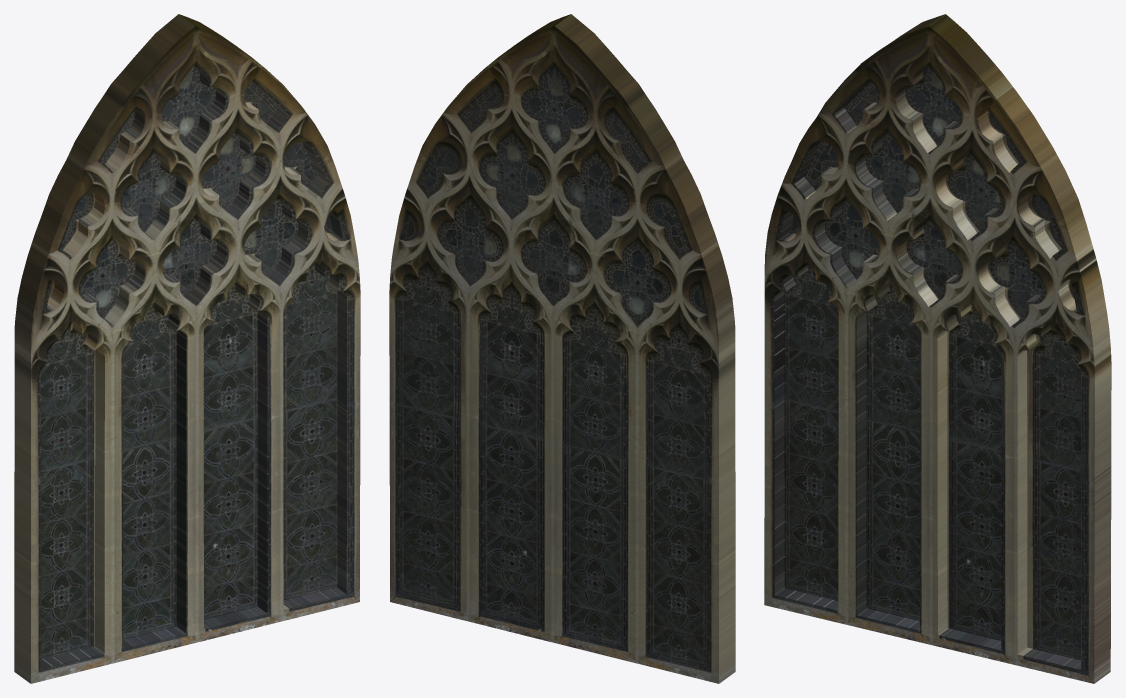
Rendered from gothic_window (1).glb.
The picture shows the model from 3 angles, left to right: view 1: azimuth 30°, elevation 25°; view 2: azimuth 150°, elevation 25°; view 3: azimuth 330°, elevation 25°; orthographic projection.
Visible parts, largest first — view 1: frame; view 2: frame; view 3: frame.
Part boxes in pixels (left/top/right/bottom): frame: left=14, top=14, right=360, bottom=683; frame: left=389, top=14, right=735, bottom=683; frame: left=764, top=14, right=1111, bottom=683.
Size of the model in its own units: 2.14 by 3.82 by 0.1852.
1 material, 1 textured.
